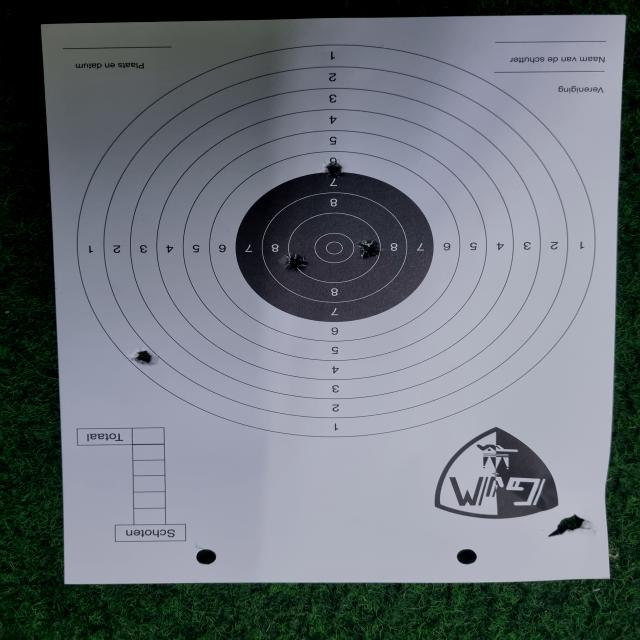1: (126, 347, 159, 367)
7: (324, 159, 344, 177)
9: (356, 240, 383, 260), (284, 255, 310, 272)
Target: (74, 43, 596, 439)
black_contour: (235, 173, 435, 321)
